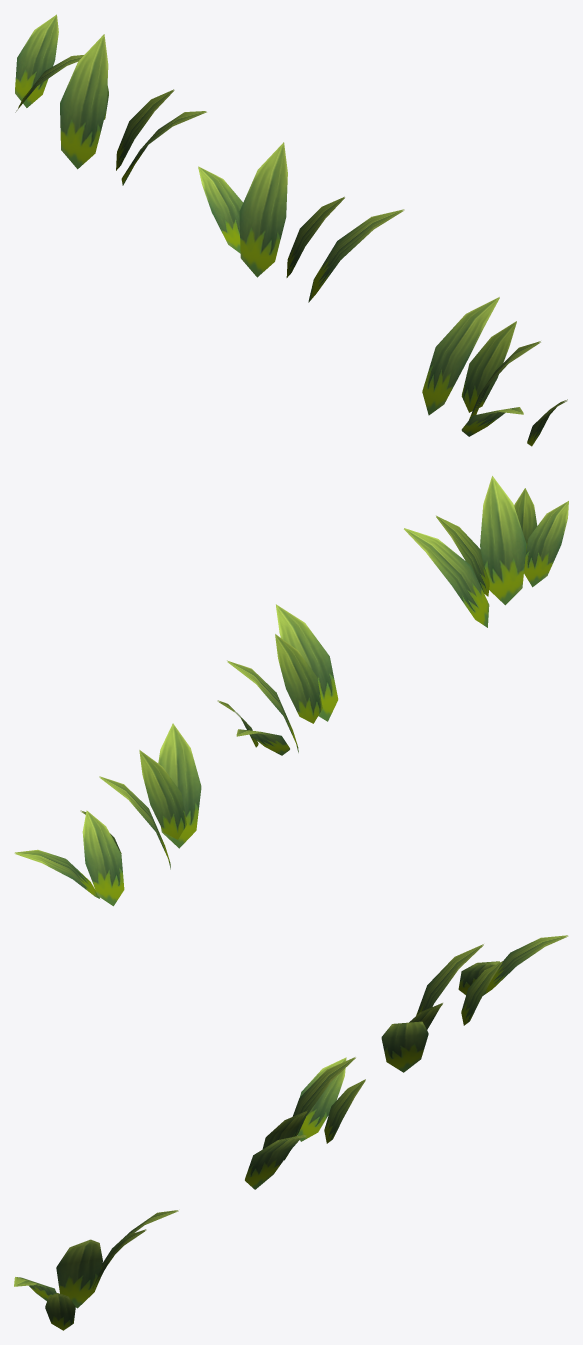
The model's file is scenes_construction_grass01.FBX.
3 views of the same model, one above another, from view 1: azimuth 30°, elevation 25°; view 2: azimuth 150°, elevation 25°; view 3: azimuth 330°, elevation 25° (orthographic). The views are drawn at different scales.
Parts seen in each view (by area): view 1: scenes_construction_grass01; view 2: scenes_construction_grass01; view 3: scenes_construction_grass01.
Part boxes in pixels (box(x1,y1,x2,y2)): scenes_construction_grass01: box(15, 14, 567, 446); scenes_construction_grass01: box(14, 476, 568, 906); scenes_construction_grass01: box(14, 935, 568, 1330).
Bounding box in the file's own units: 99.86 × 89.03 × 779.
